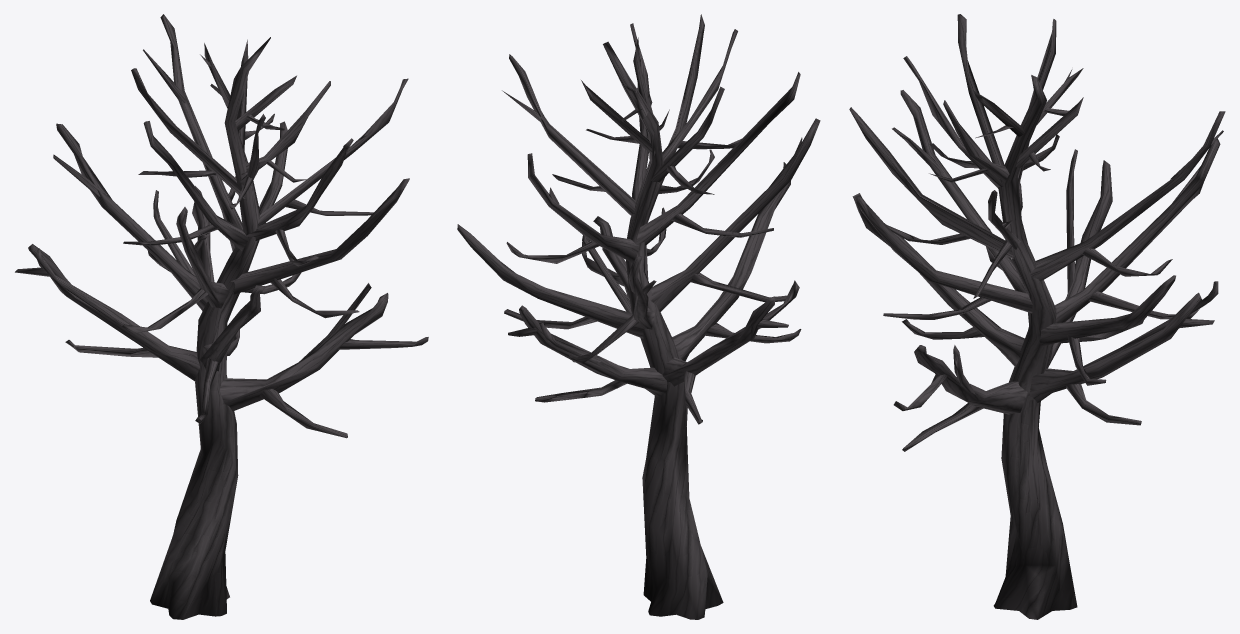
Rendered from dead-tree-1-giE7r8AN.glb.
3 renders of one model, left to right at view 1: azimuth 30°, elevation 25°; view 2: azimuth 150°, elevation 25°; view 3: azimuth 270°, elevation 25°, orthographic. The views are drawn at different scales.
Parts seen in each view (by area): view 1: DeadTree_1; view 2: DeadTree_1; view 3: DeadTree_1.
Part boxes in pixels (box(x1,y1,x2,y2)): DeadTree_1: box(15, 14, 428, 619); DeadTree_1: box(457, 14, 820, 619); DeadTree_1: box(849, 14, 1225, 619).
Size of the model in its own units: 6.12 by 9.49 by 5.73.
Materials: 1 (1 with a texture image).
